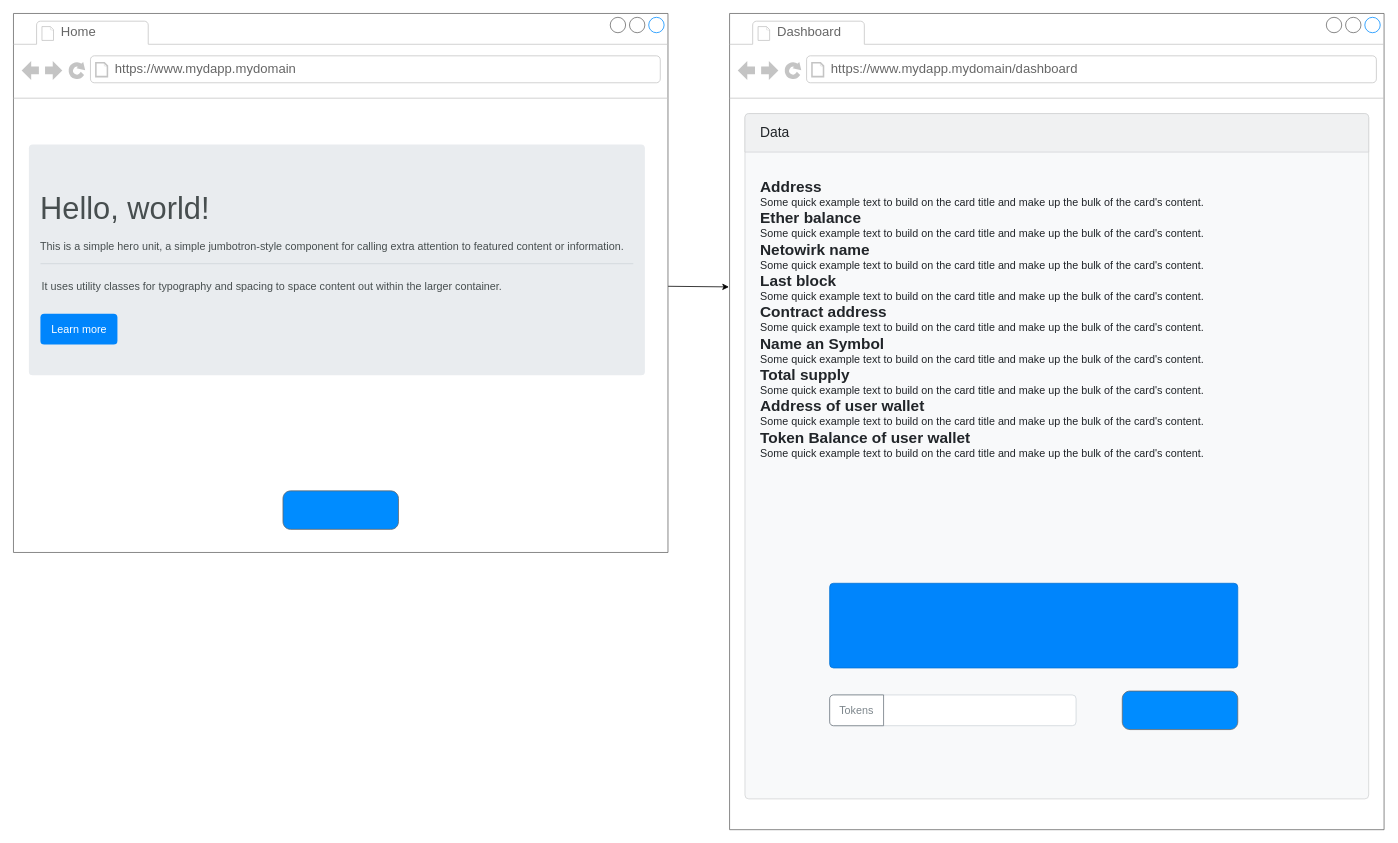
Some shapes in this 1398 by 843 pixel diagram are drawn without their labels. Each missing label, with the box of its shape:
Create wallet: (282, 490, 398, 529)
Request tokens: (1122, 690, 1238, 730)
Request tokens Request some tokens here using the form bellow: (829, 583, 1238, 668)
